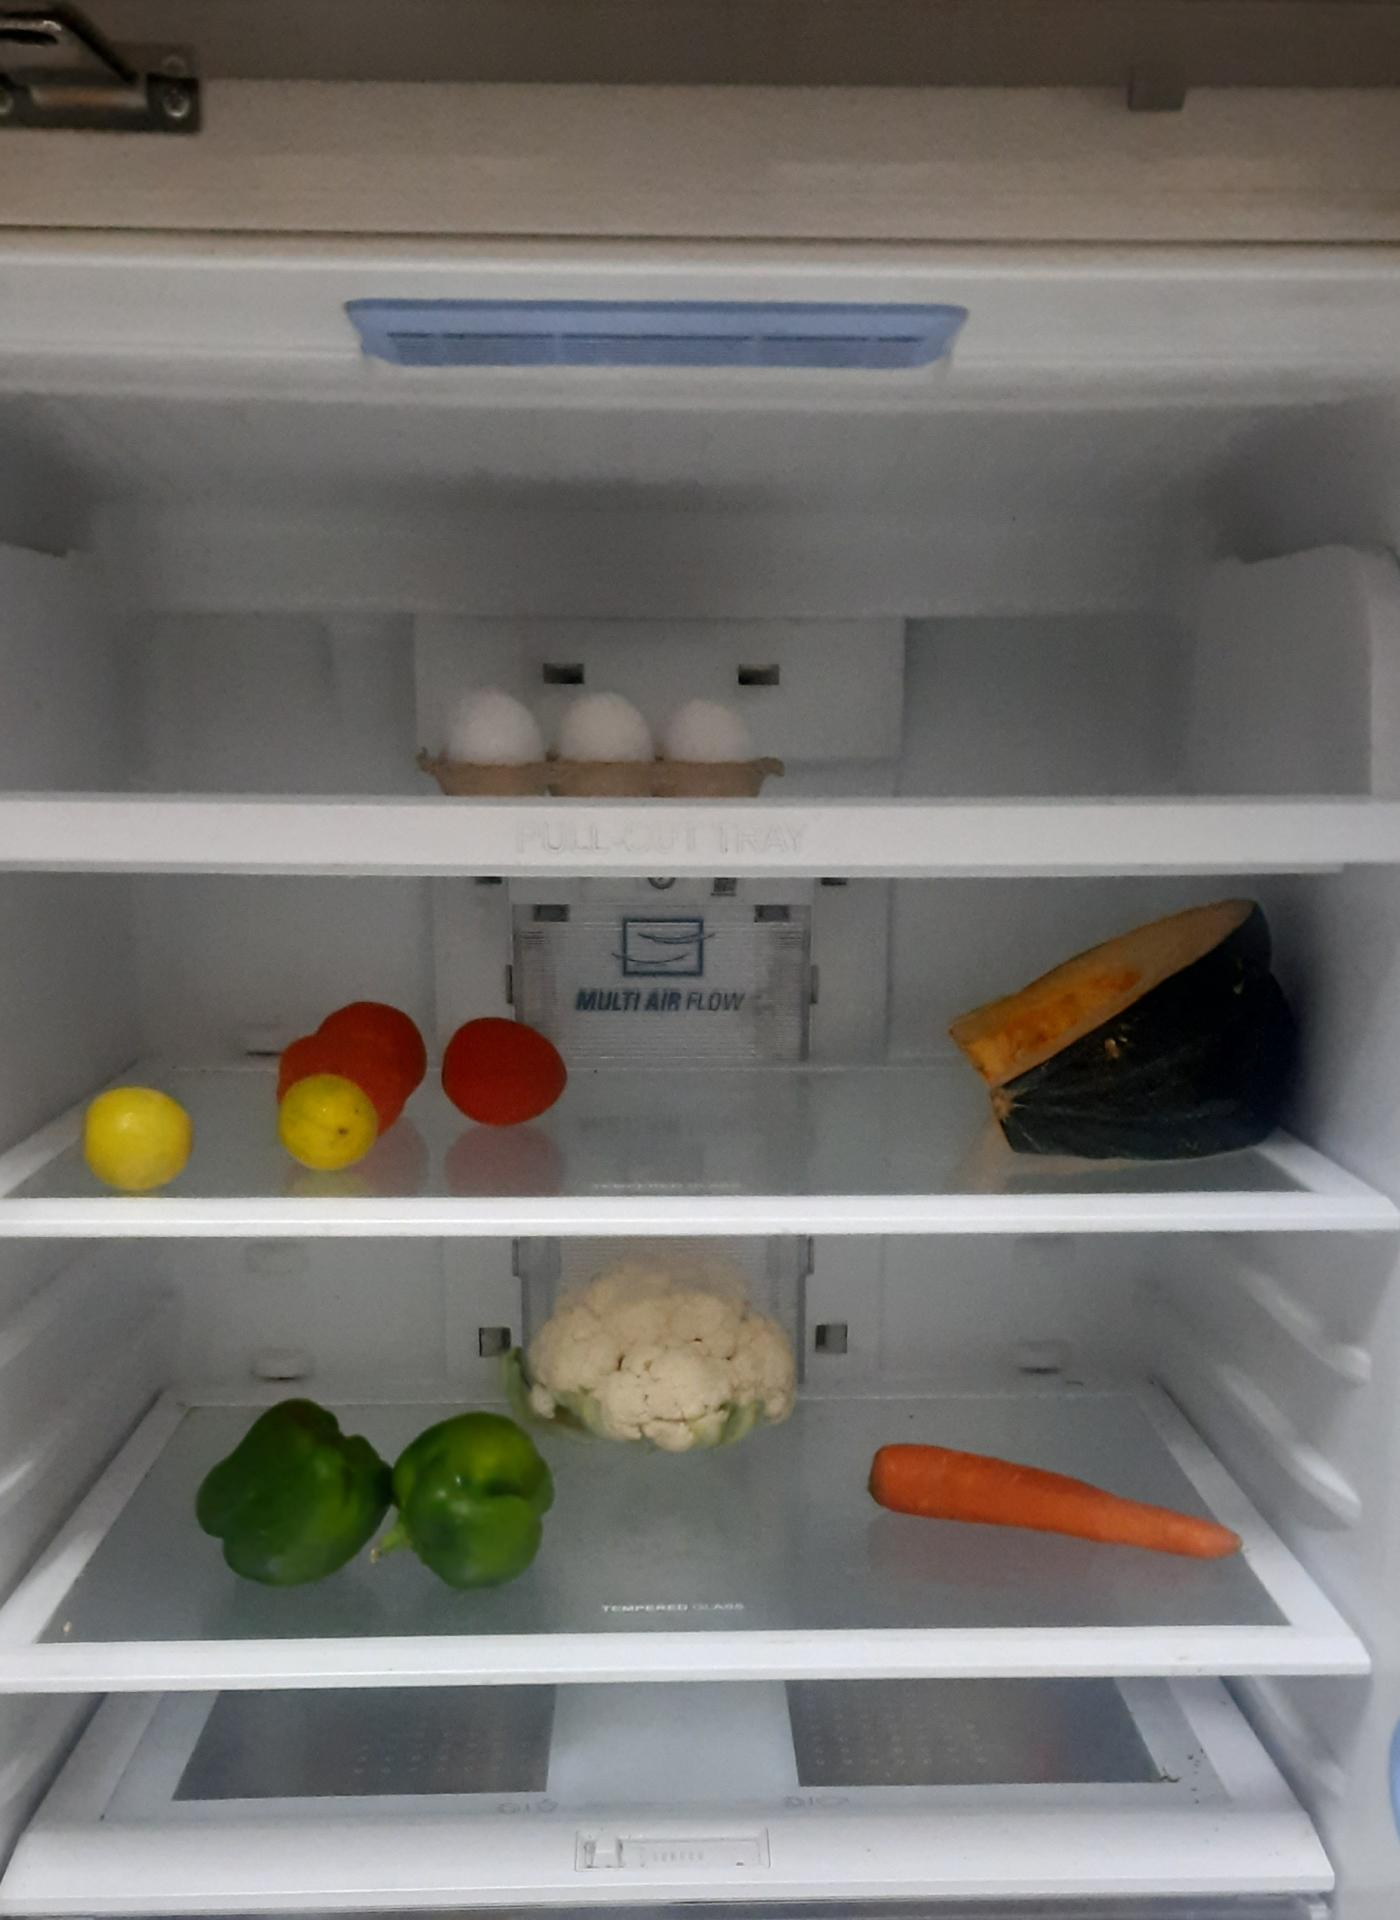capsicum: (192, 1398, 564, 1588), (394, 1413, 552, 1583)
carrots: (868, 1434, 1246, 1559)
cauliflower: (523, 1236, 813, 1443)
egg: (435, 690, 757, 787)
lemon: (82, 1084, 197, 1193), (276, 1070, 380, 1169)
pumpkin: (960, 896, 1312, 1172)
tomato: (273, 1000, 431, 1128), (437, 1014, 568, 1128)
